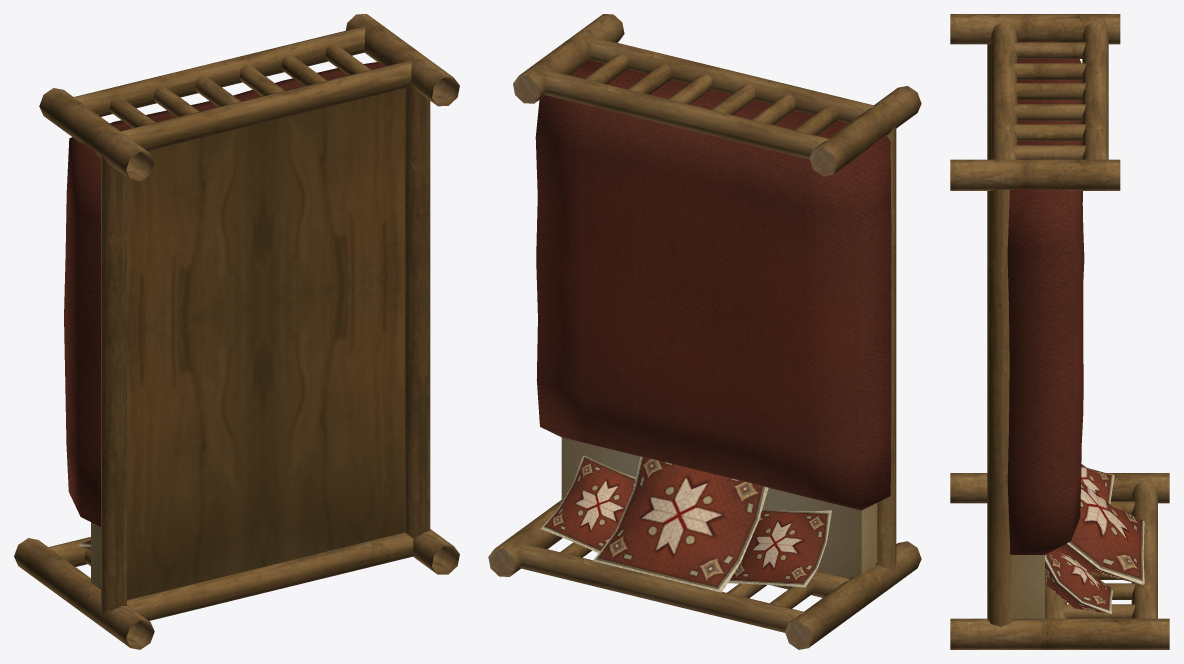
The model's file is Log_Bed.fbx.
3 renders of one model, left to right at view 1: azimuth 30°, elevation 25°; view 2: azimuth 150°, elevation 25°; view 3: azimuth 270°, elevation 25°, orthographic. The views are drawn at different scales.
Parts seen in each view (by area): view 1: Log_Bed; view 2: Log_Bed; view 3: Log_Bed.
Boxes of the visible parts, bbox=[...] form: Log_Bed: bbox=[14, 14, 459, 649]; Log_Bed: bbox=[488, 14, 921, 649]; Log_Bed: bbox=[950, 14, 1169, 649].
Bounding box in the file's own units: 18.45 × 25.06 × 10.21.
